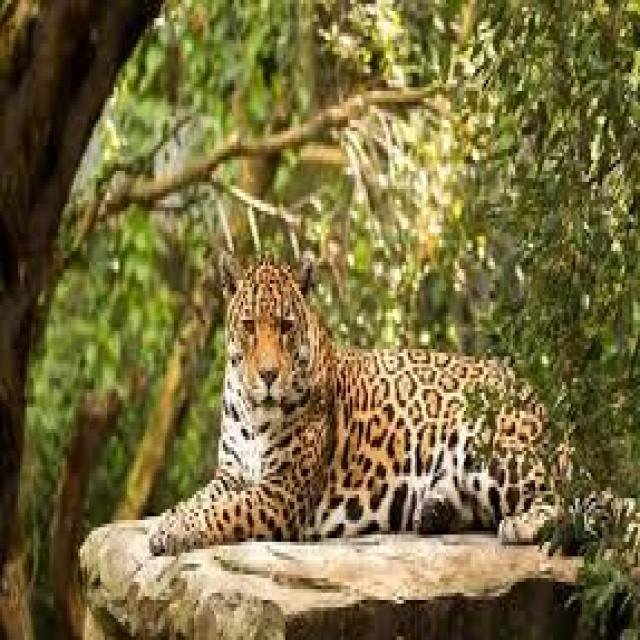Jaguar: (152, 218, 568, 524)
